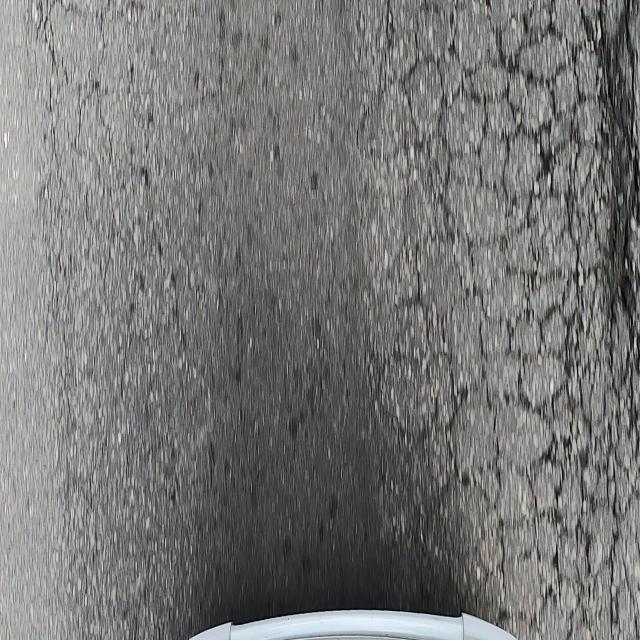Retak-Buaya: (368, 0, 640, 640)
